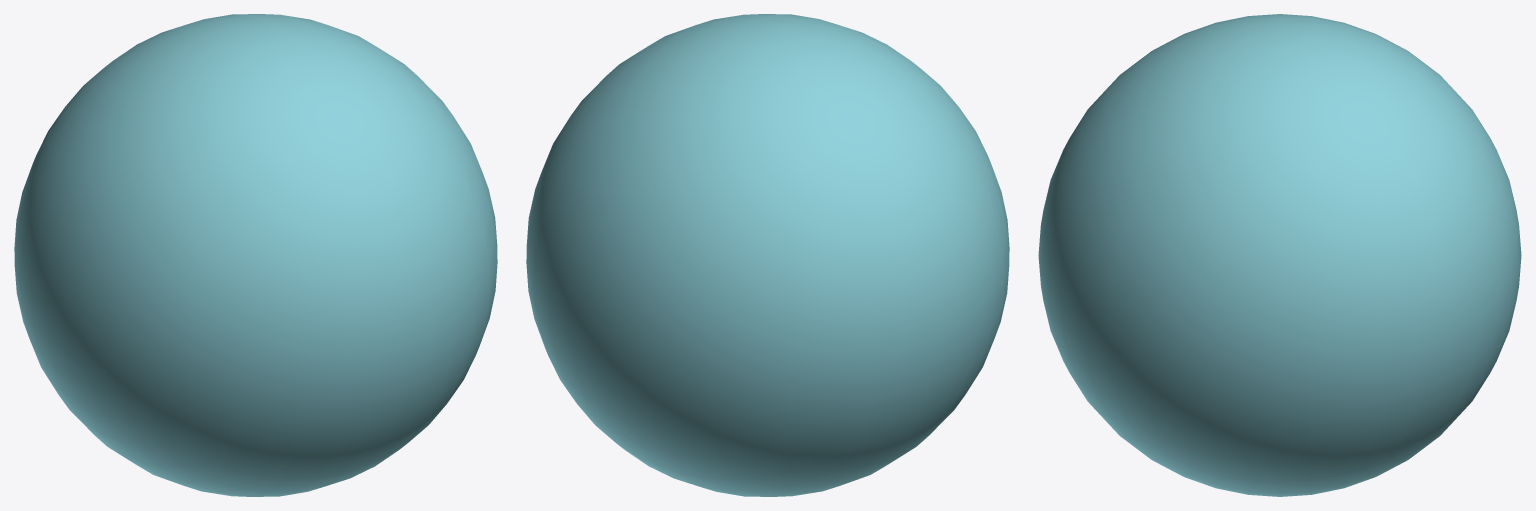
The model's file is 54_Xe_CKP.fbx.
3 renders of one model, left to right at view 1: azimuth 30°, elevation 25°; view 2: azimuth 150°, elevation 25°; view 3: azimuth 270°, elevation 25°, orthographic.
Visible parts, largest first — view 1: XE.002; view 2: XE.002; view 3: XE.002.
Boxes of the visible parts, x1,y1,x2,y2 form: XE.002: [14, 14, 497, 496]; XE.002: [526, 14, 1009, 496]; XE.002: [1038, 14, 1521, 496].
Bounding box in the file's own units: 312 × 312 × 312.
